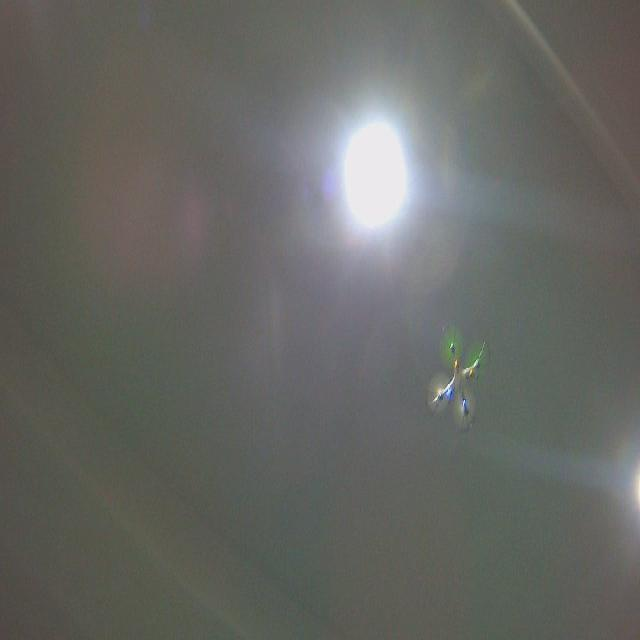drone: (423, 319, 493, 436)
